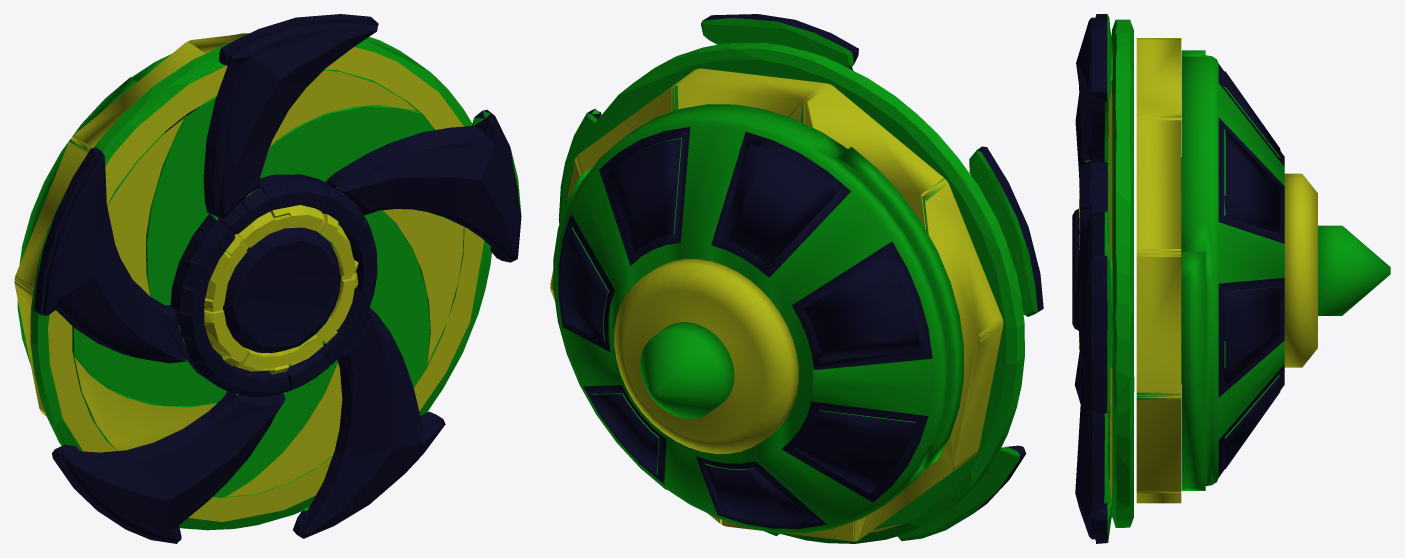
The model's file is spiner2.glb.
3 renders of one model, left to right at view 1: azimuth 30°, elevation 25°; view 2: azimuth 150°, elevation 25°; view 3: azimuth 270°, elevation 25°, orthographic. The views are drawn at different scales.
Visible parts, largest first — view 1: Mesh_0; view 2: Mesh_0; view 3: Mesh_0.
Part boxes in pixels (<box>): Mesh_0: <box>14,14,521,543</box>; Mesh_0: <box>550,14,1043,543</box>; Mesh_0: <box>1072,14,1390,543</box>.
Size of the model in its own units: 0.0567 by 0.0583 by 0.0341.
